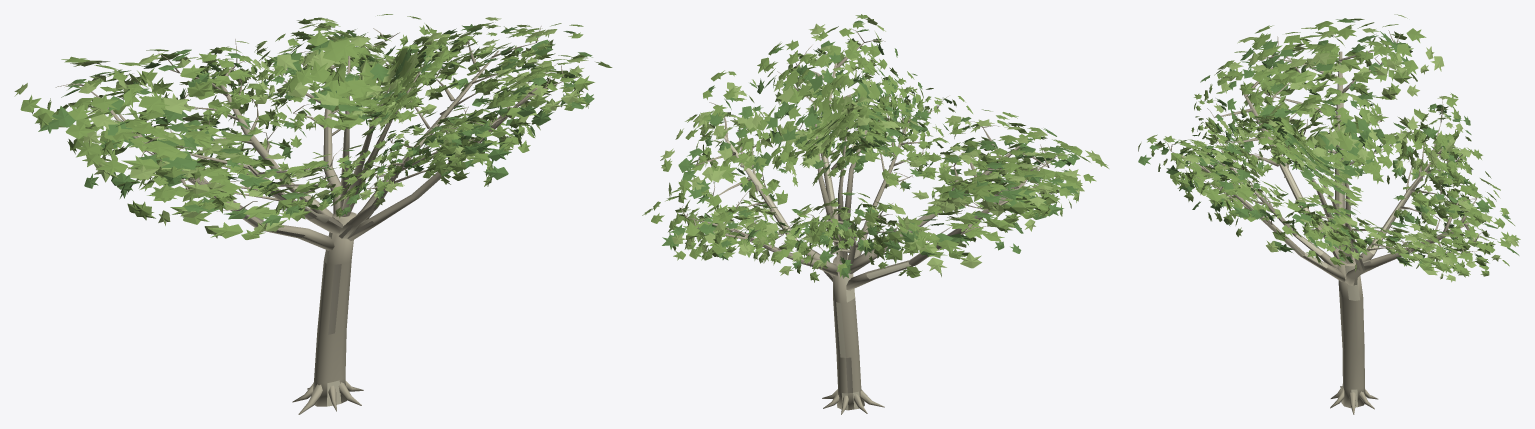
The picture shows the model from 3 angles, left to right: view 1: azimuth 30°, elevation 25°; view 2: azimuth 150°, elevation 25°; view 3: azimuth 270°, elevation 25°; orthographic projection. The views are drawn at different scales.
Visible parts, largest first — view 1: tree_plane_c_PlaneLeaf, tree_plane_c_PlaneBark, tree_plane_c_PlaneLeafDark, tree_plane_c_PlaneLeafLight, tree_plane_c_PlaneBarkPale, tree_plane_c_PlaneBarkBrown; view 2: tree_plane_c_PlaneLeaf, tree_plane_c_PlaneLeafDark, tree_plane_c_PlaneLeafLight, tree_plane_c_PlaneBark, tree_plane_c_PlaneBarkPale, tree_plane_c_PlaneBarkBrown; view 3: tree_plane_c_PlaneLeaf, tree_plane_c_PlaneLeafLight, tree_plane_c_PlaneLeafDark, tree_plane_c_PlaneBark, tree_plane_c_PlaneBarkPale, tree_plane_c_PlaneBarkBrown.
Boxes of the visible parts, box(x1,y1,x2,y2) form: tree_plane_c_PlaneLeaf: box(20, 14, 612, 239); tree_plane_c_PlaneBark: box(55, 26, 579, 414); tree_plane_c_PlaneLeafDark: box(38, 24, 594, 226); tree_plane_c_PlaneLeafLight: box(14, 17, 588, 238); tree_plane_c_PlaneBarkPale: box(132, 50, 534, 406); tree_plane_c_PlaneBarkBrown: box(117, 118, 445, 334); tree_plane_c_PlaneLeaf: box(642, 14, 1108, 282); tree_plane_c_PlaneLeafDark: box(662, 20, 1079, 278); tree_plane_c_PlaneLeafLight: box(660, 17, 1101, 275); tree_plane_c_PlaneBark: box(681, 28, 1065, 414); tree_plane_c_PlaneBarkPale: box(724, 63, 967, 410); tree_plane_c_PlaneBarkBrown: box(735, 147, 1019, 393); tree_plane_c_PlaneLeaf: box(1147, 18, 1520, 277); tree_plane_c_PlaneLeafLight: box(1138, 14, 1518, 282); tree_plane_c_PlaneLeafDark: box(1138, 18, 1519, 268); tree_plane_c_PlaneBark: box(1163, 30, 1483, 414); tree_plane_c_PlaneBarkPale: box(1203, 52, 1441, 407); tree_plane_c_PlaneBarkBrown: box(1241, 52, 1440, 270).
Size of the model in its own units: 17.38 by 12.75 by 14.28.
